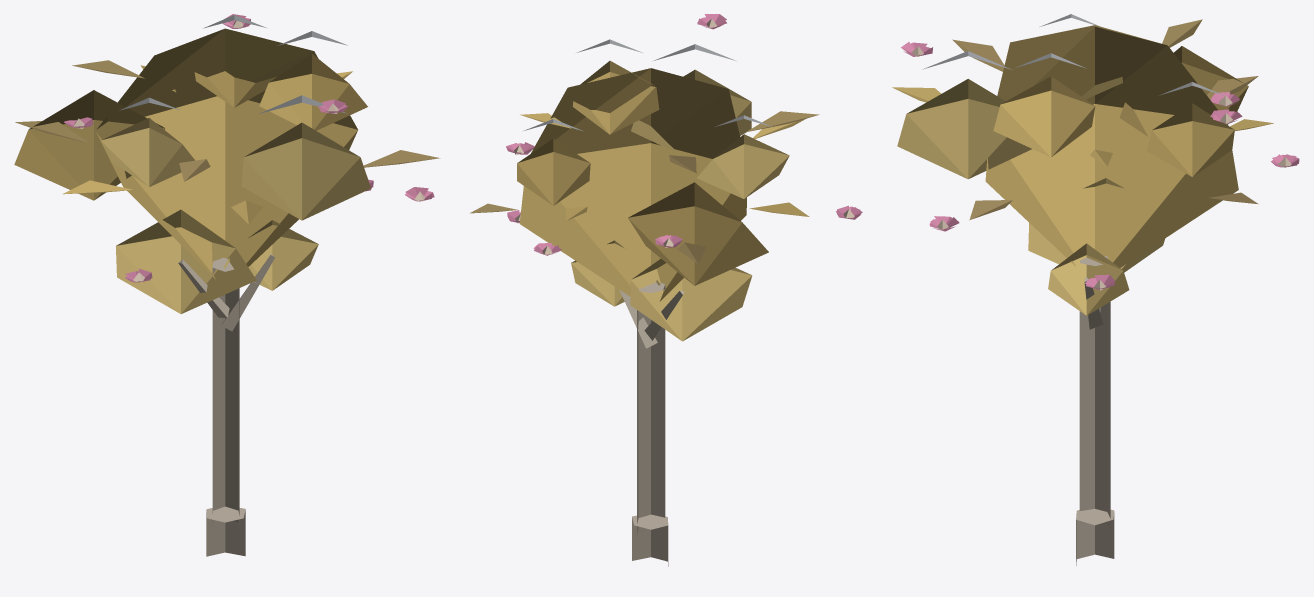
The model's file is shu.chuizhi@flowering__autumn.glb.
3 views of the same model, side by side, from view 1: azimuth 30°, elevation 25°; view 2: azimuth 150°, elevation 25°; view 3: azimuth 270°, elevation 25° (orthographic). The views are drawn at different scales.
Parts seen in each view (by area): view 1: shu.chuizhi@flowering__autumn; view 2: shu.chuizhi@flowering__autumn; view 3: shu.chuizhi@flowering__autumn.
Boxes of the visible parts, bbox=[...] form: shu.chuizhi@flowering__autumn: bbox=[14, 14, 440, 556]; shu.chuizhi@flowering__autumn: bbox=[470, 14, 862, 566]; shu.chuizhi@flowering__autumn: bbox=[892, 14, 1299, 565].
Size of the model in its own units: 6.6 by 10.36 by 7.05.
